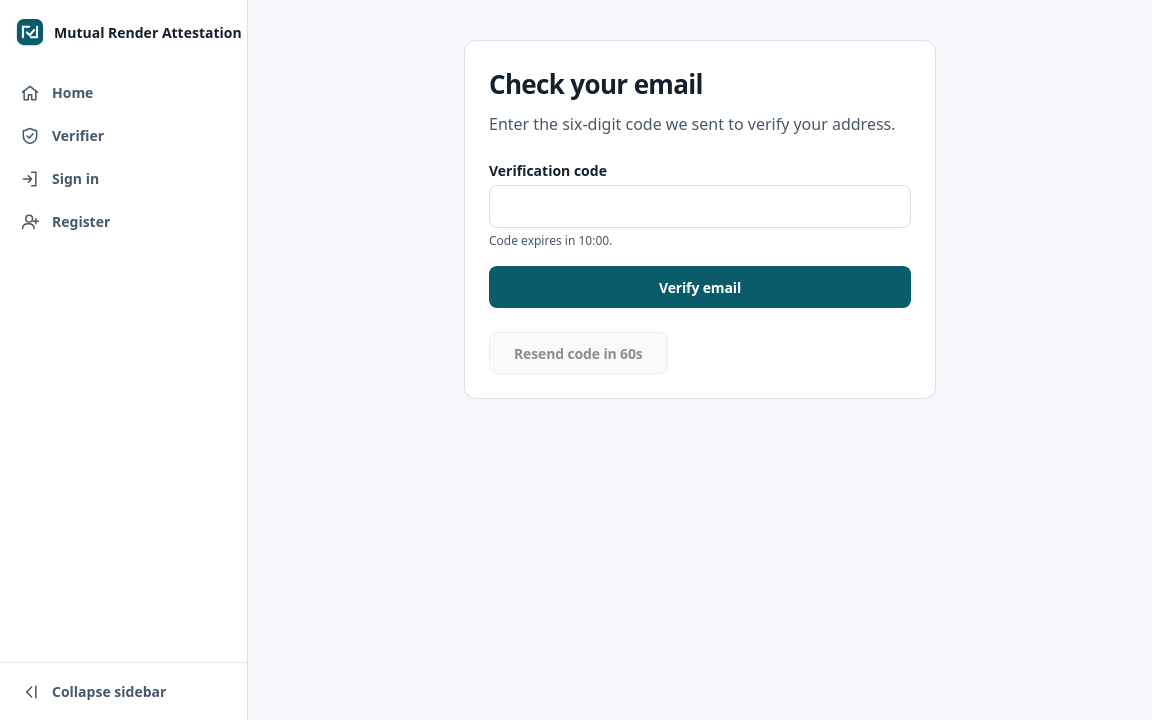
Test: VerifyEmail page › strips non-digits as the user types
Type "12ab34" into the field labelled "Verification code" at [700, 206], box [489,185,911,228]
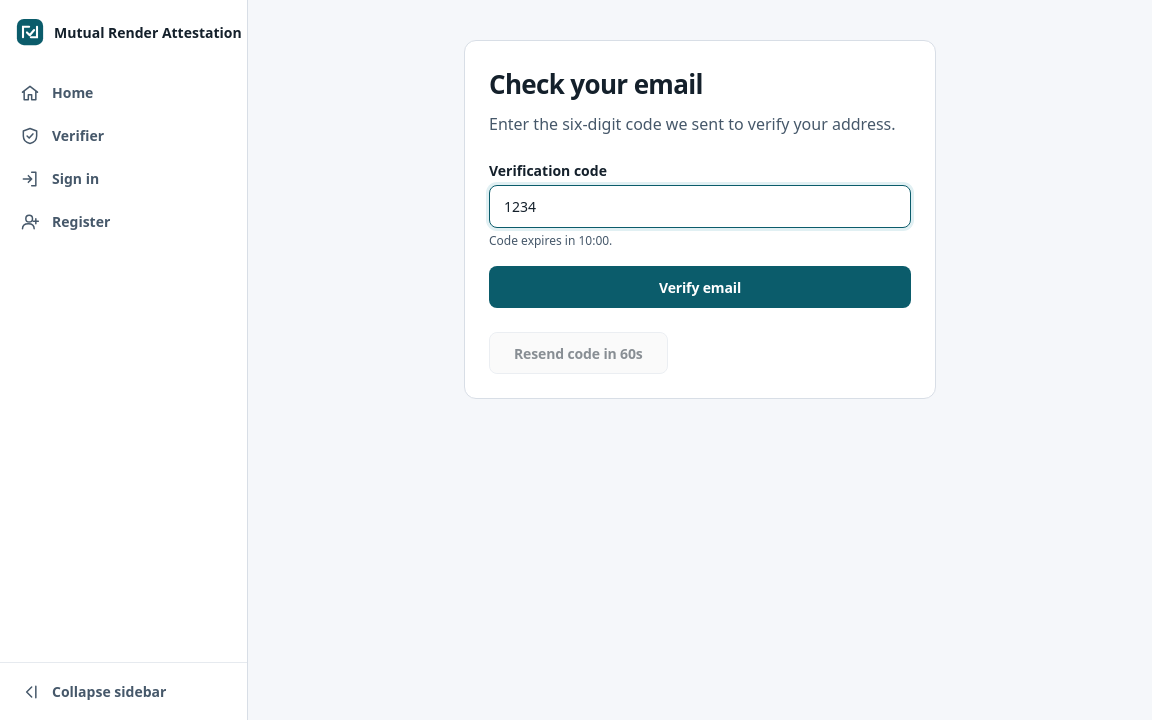
Expected: the field labelled "Verification code" holds "1234", [489,185,911,228]
